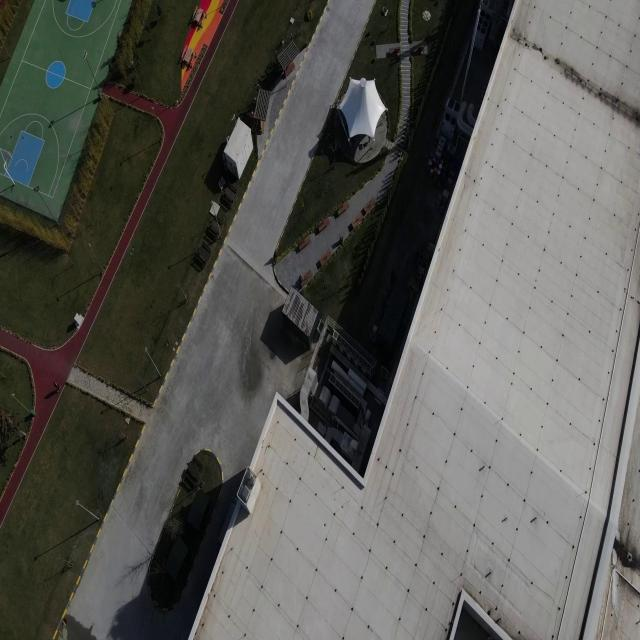p3rson: (53, 379, 62, 395)
